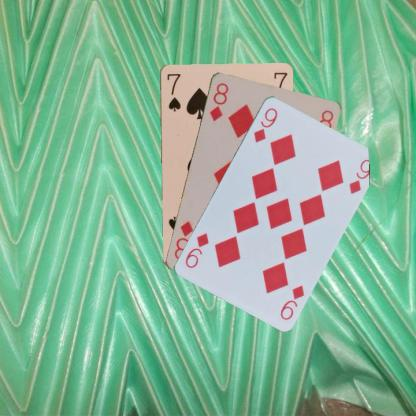7s: (164, 70, 182, 112)
8d: (206, 80, 230, 122)
9d: (277, 282, 306, 321), (251, 104, 279, 144)
